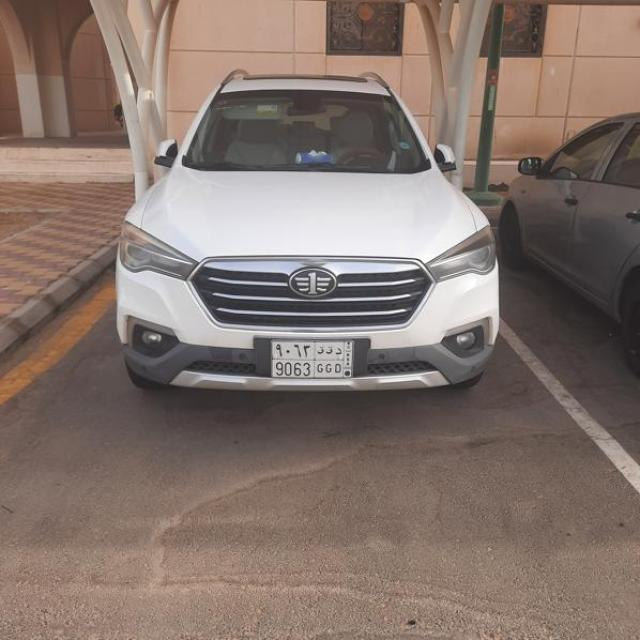license_plate: (270, 340, 353, 379)
